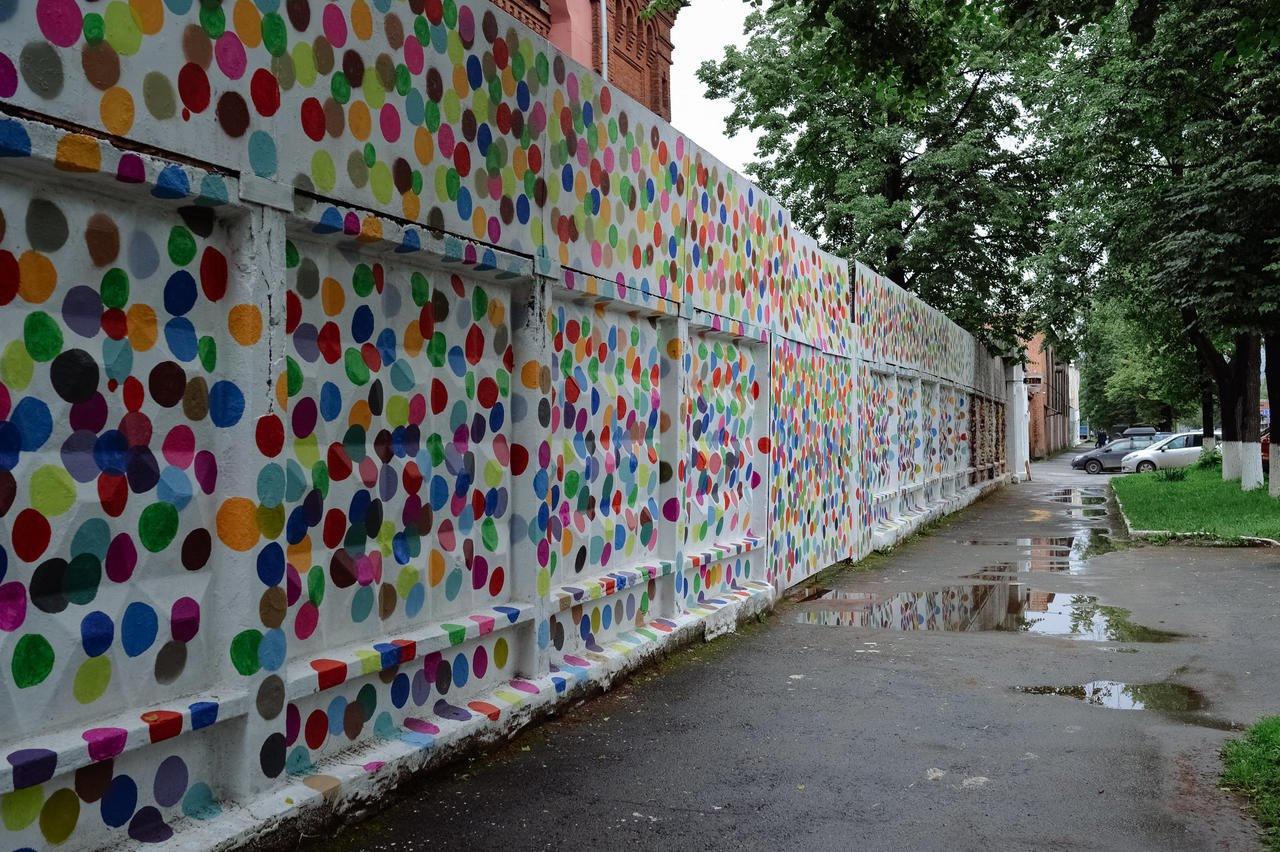graphite: (3, 10, 472, 752), (518, 109, 802, 598), (791, 276, 910, 553), (923, 338, 970, 501)
